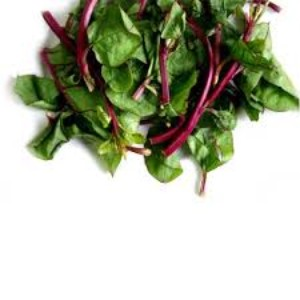spinach_brain food: (18, 8, 283, 169)
